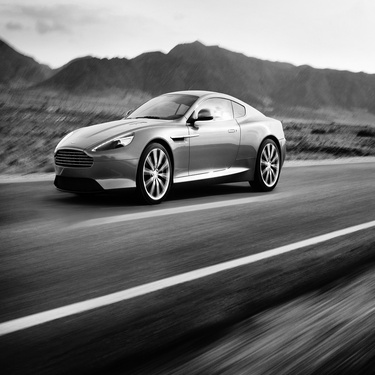car: (50, 79, 286, 203)
